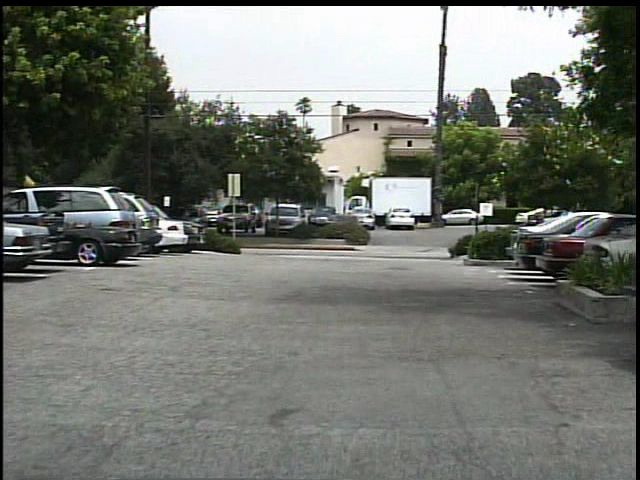person: (178, 208, 197, 245)
